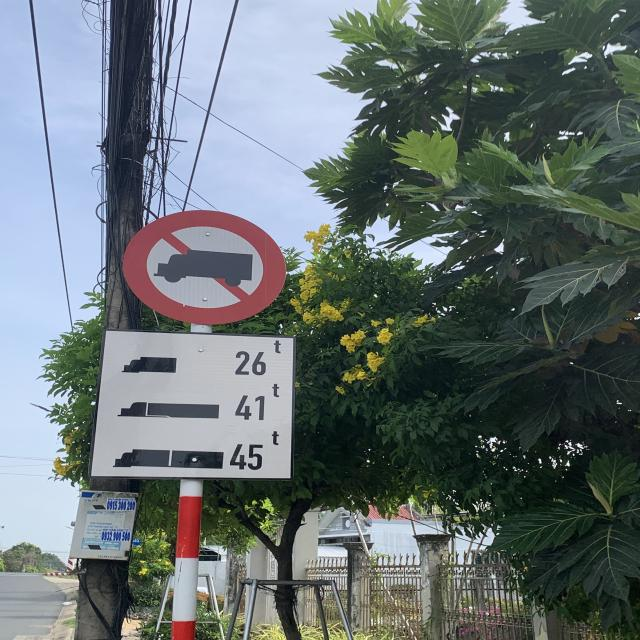Cam_Xe_Tai: (123, 208, 284, 324)
